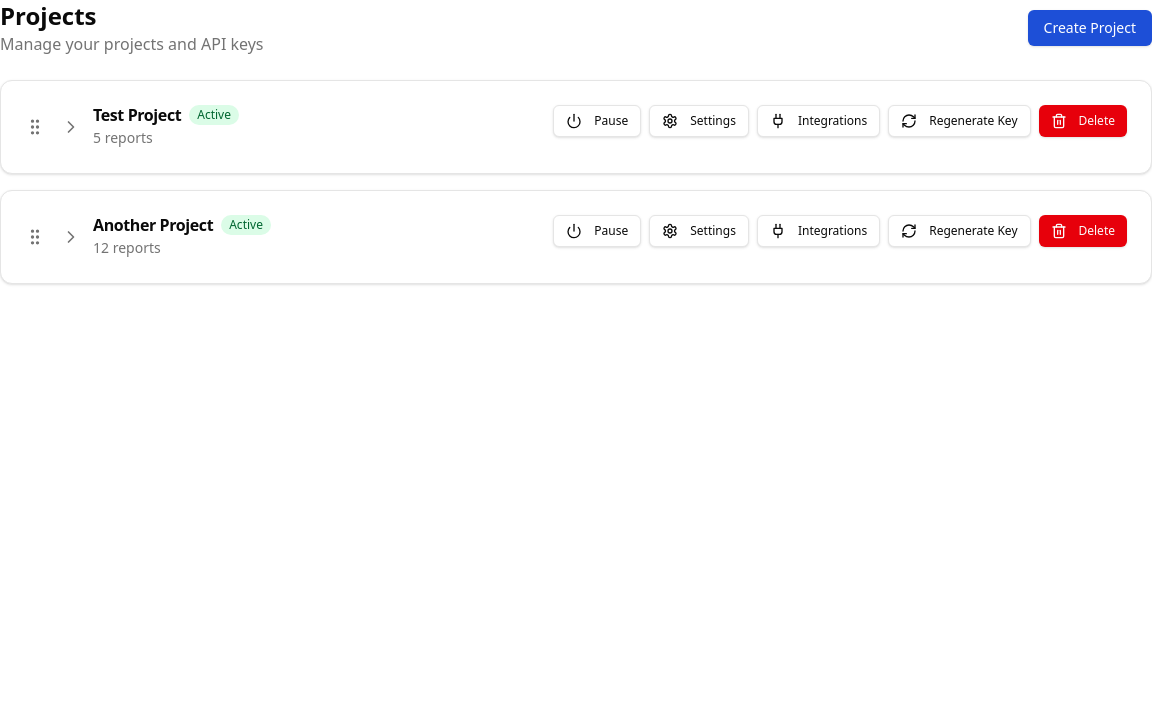
Scenario: Projects Page › shows delete confirmation dialog
The image size is (1152, 720).
Expected: the text "Test Project" is shown, 93,107 -> 181,123
Find and click first delete button
Click the 1st button "Delete" at (1083, 121), box 1038,105 -> 1127,137
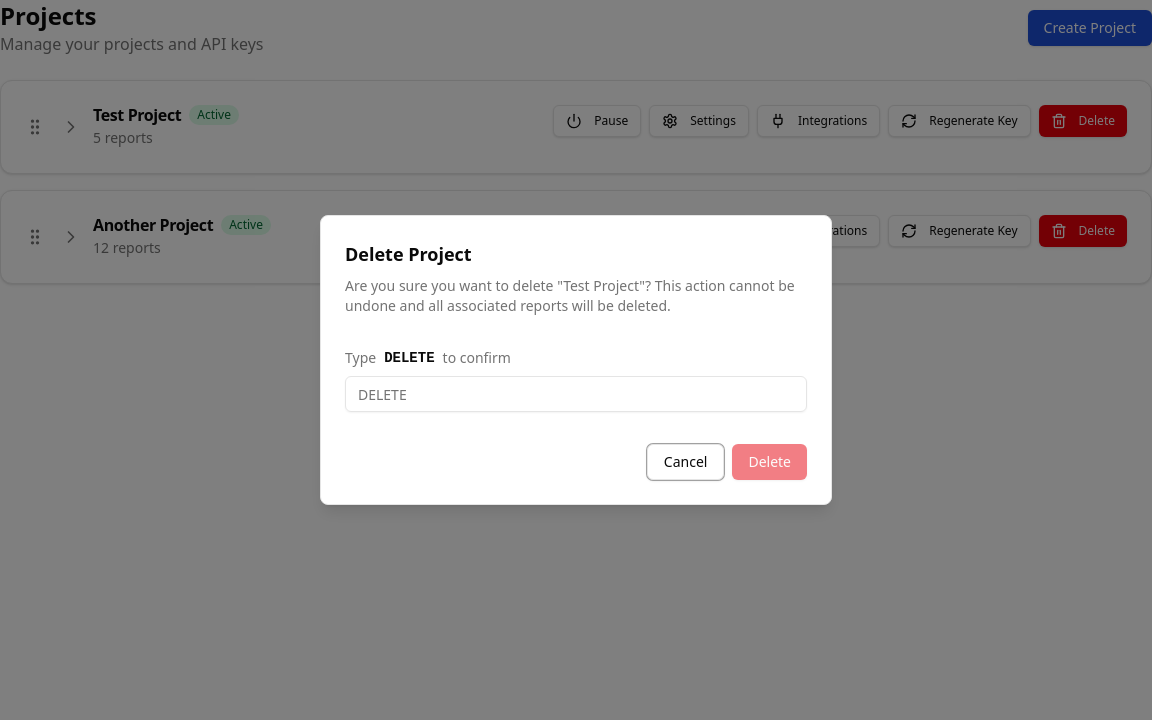
Now the dialog is shown, box 320,215 -> 832,505
